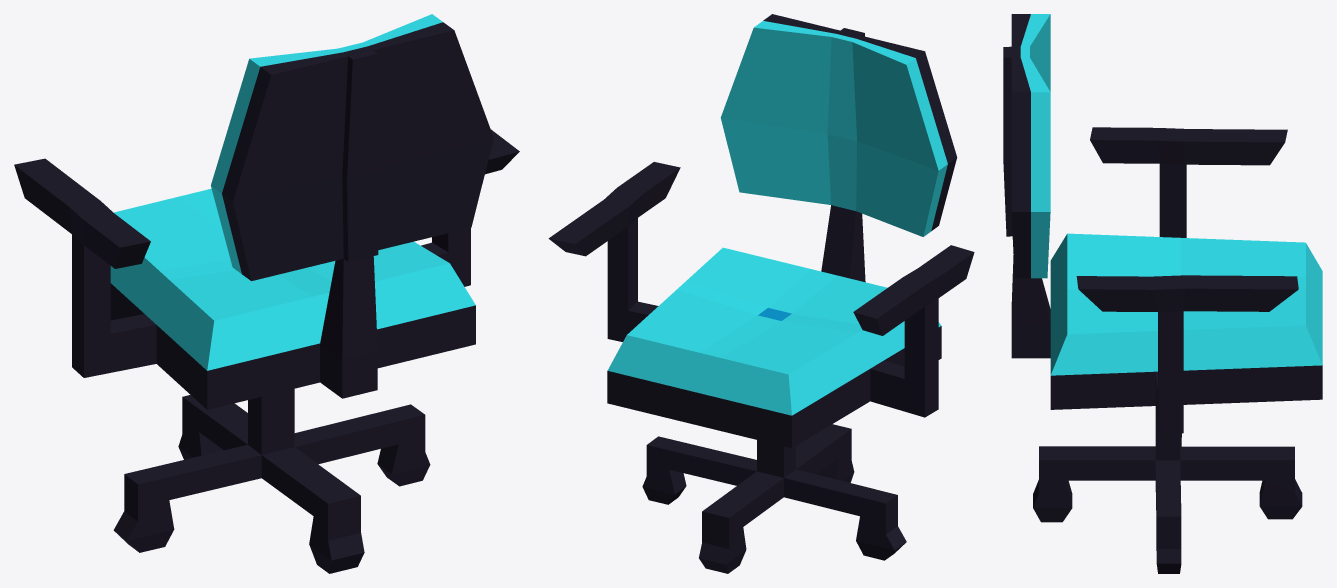
The model's file is offceChair.glb.
3 renders of one model, left to right at view 1: azimuth 30°, elevation 25°; view 2: azimuth 150°, elevation 25°; view 3: azimuth 270°, elevation 25°, orthographic. The views are drawn at different scales.
Parts seen in each view (by area): view 1: Cube; view 2: Cube; view 3: Cube.
Part boxes in pixels (x1=…): Cube: x1=14, y1=14, x2=519, y2=573; Cube: x1=548, y1=14, x2=974, y2=573; Cube: x1=1003, y1=14, x2=1322, y2=573.
Size of the model in its own units: 2.93 by 3.77 by 2.35.
Materials: 1 (1 with a texture image).
